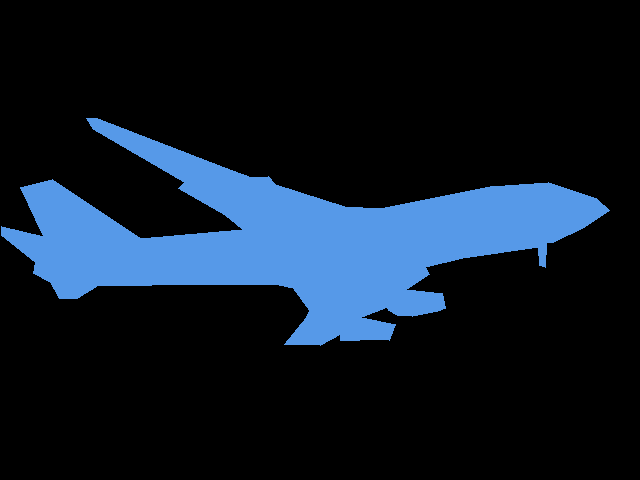Airplane: (1, 118, 609, 345)
